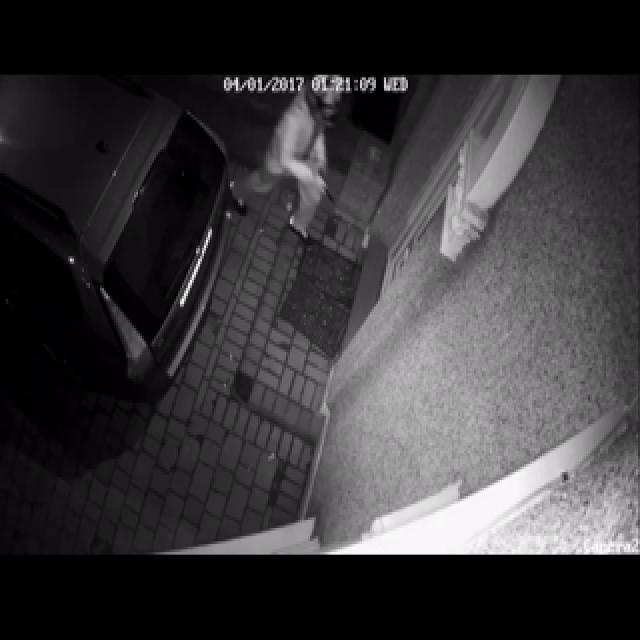burglary: (149, 72, 533, 452)
